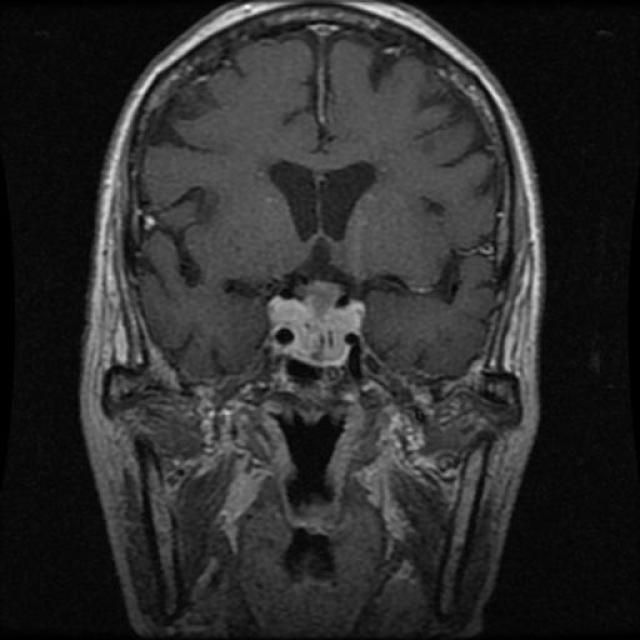pituitary: (257, 281, 385, 377)
